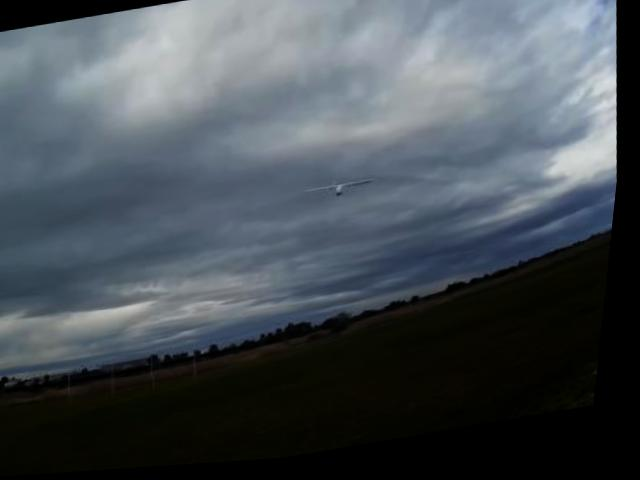uav: (309, 173, 383, 213)
